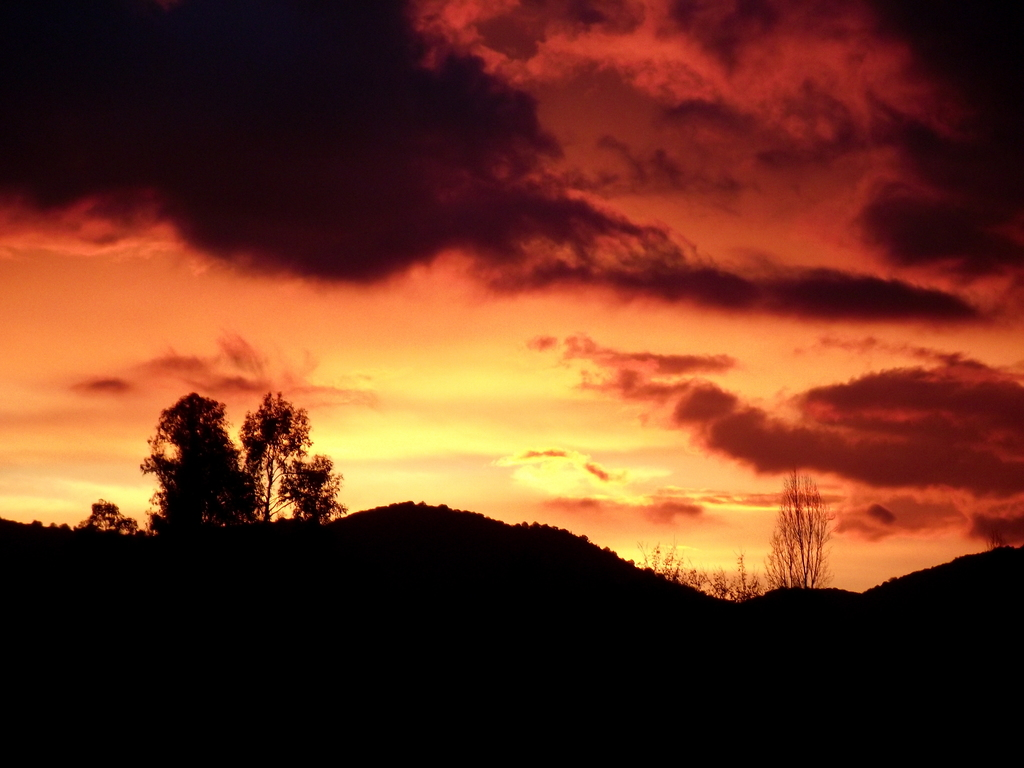Tree: (126, 371, 250, 539), (238, 388, 348, 539)
